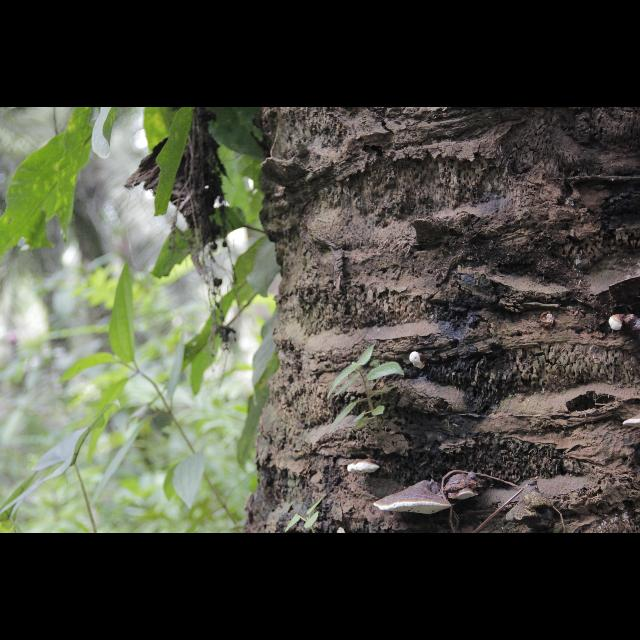ganoderma: (375, 482, 454, 516), (445, 473, 491, 502), (349, 459, 384, 475)
primordium: (609, 314, 625, 332), (411, 352, 427, 370)
